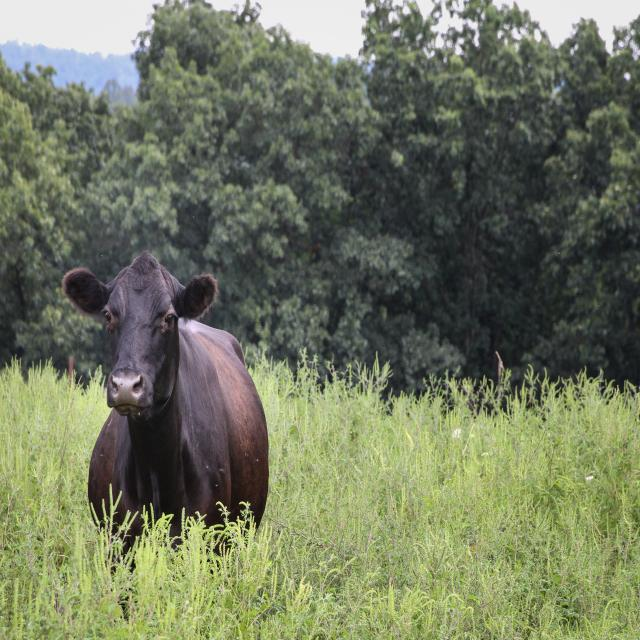cow: (62, 252, 269, 535)
